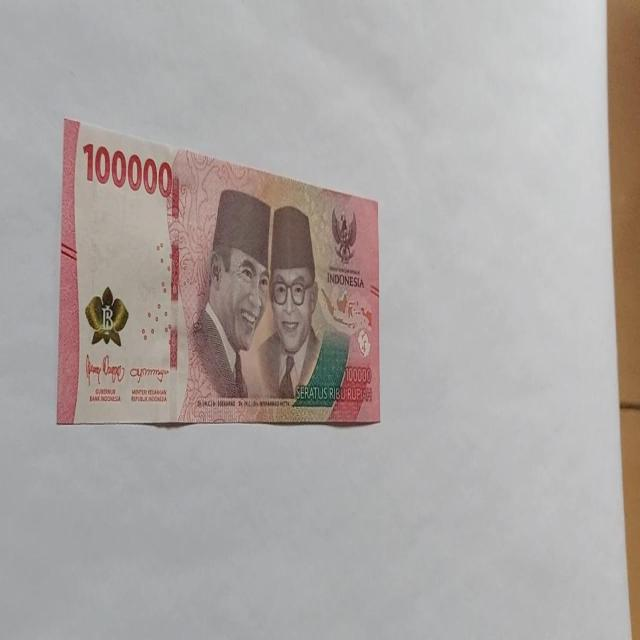Kertas: (57, 118, 381, 428), (82, 140, 174, 200)
